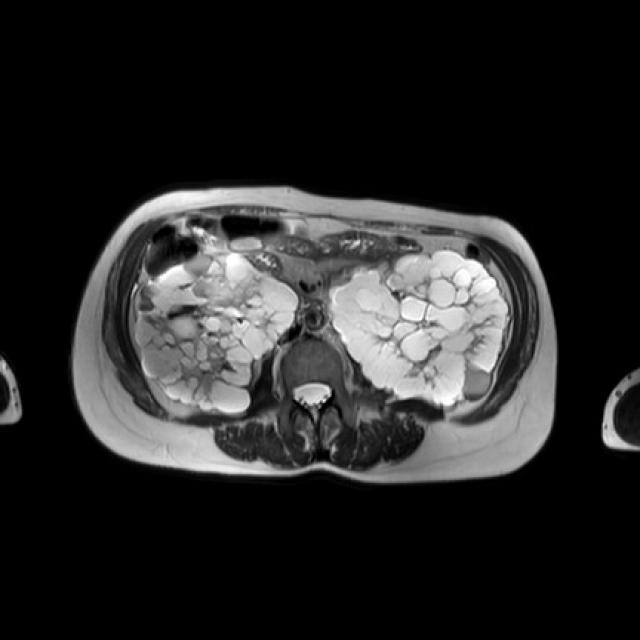sag: (133, 252, 300, 413)
sol: (325, 249, 507, 408)
